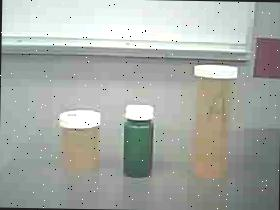Bottle A: (181, 58, 244, 188)
Bottle B: (56, 106, 106, 173)
Bottle C: (116, 100, 166, 181)
